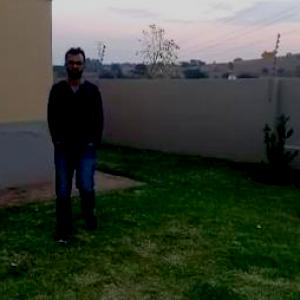follow: (42, 42, 106, 232)
